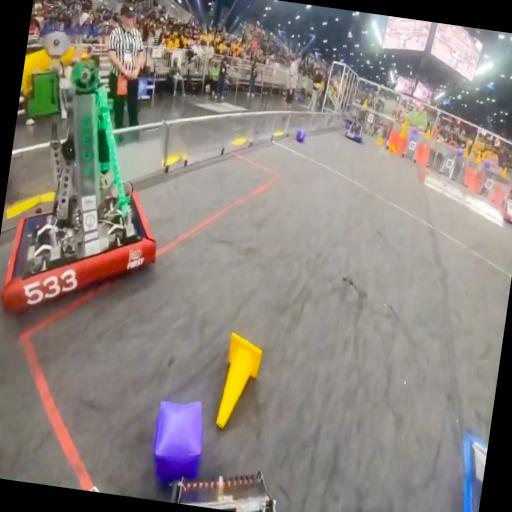robot: (0, 24, 186, 335), (342, 114, 366, 144)
